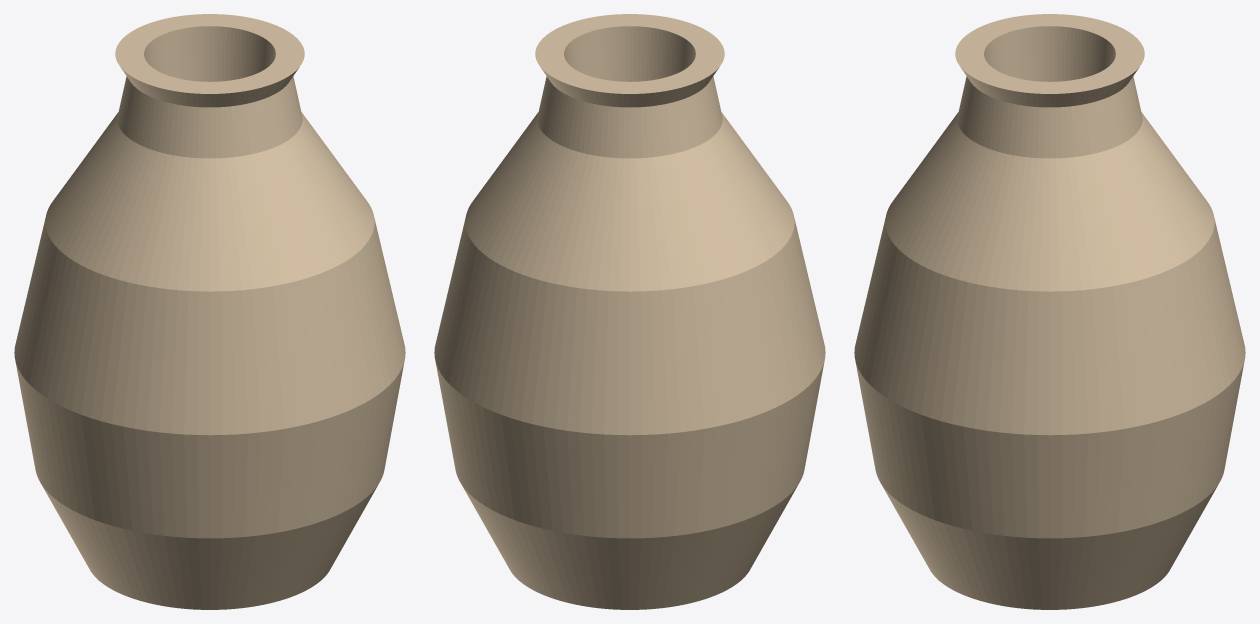
Rendered from sand-keramikvas.glb.
The picture shows the model from 3 angles, left to right: view 1: azimuth 30°, elevation 25°; view 2: azimuth 150°, elevation 25°; view 3: azimuth 270°, elevation 25°; orthographic projection.
Visible parts, largest first — view 1: sand-keramikvas-0; view 2: sand-keramikvas-0; view 3: sand-keramikvas-0.
Boxes of the visible parts, box(x1,y1,x2,y2) form: sand-keramikvas-0: box(14, 14, 405, 609); sand-keramikvas-0: box(434, 14, 825, 609); sand-keramikvas-0: box(854, 14, 1245, 609).
Size of the model in its own units: 0.19 by 0.27 by 0.19.
